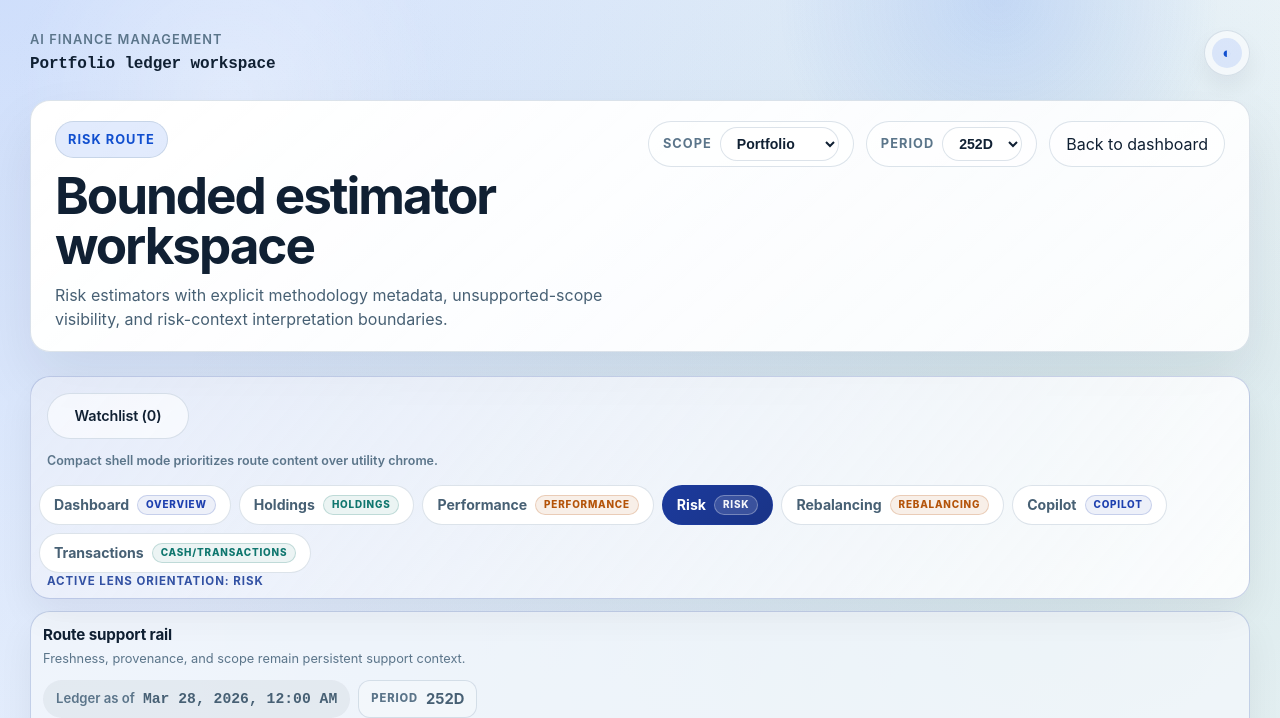
it: PortfolioRiskPage › does not force a default symbol when switching to instrument scope
Step 1. Select "Instrument" in the dropdown named "select risk scope" → point(779, 144), box [720,127,839,161]
(page scrolled)
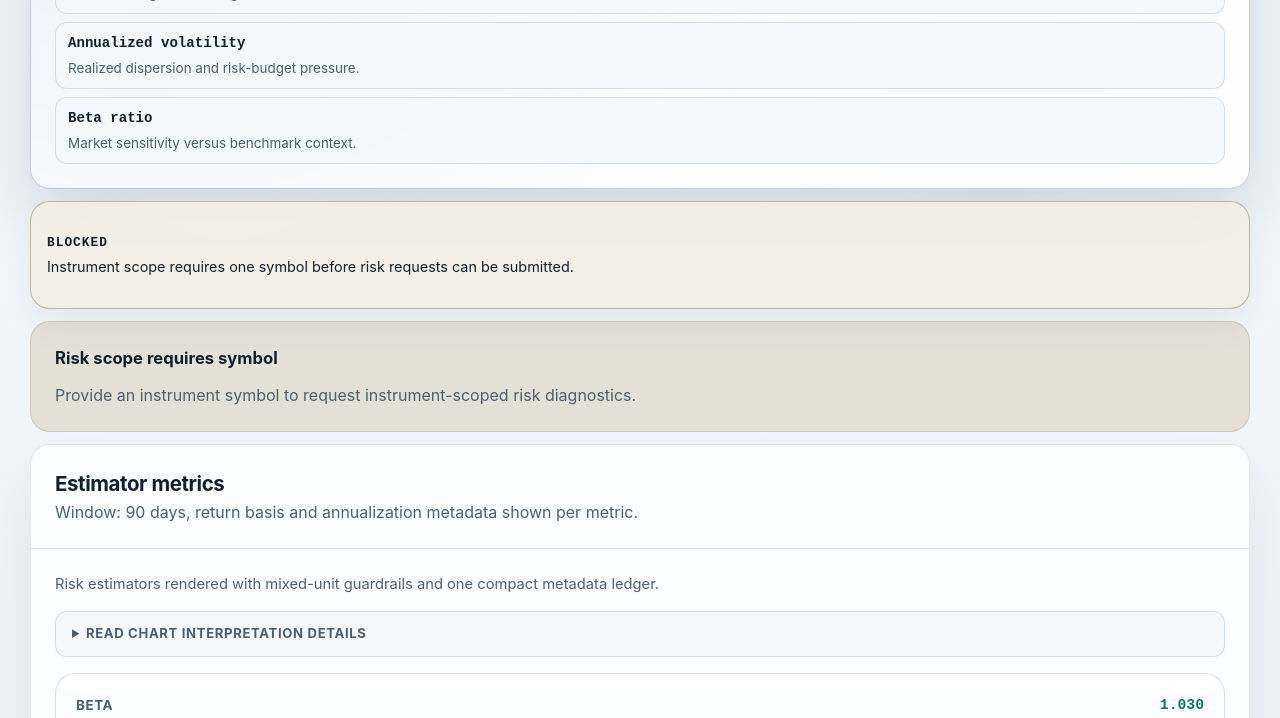
Now the heading "Risk scope requires symbol" is shown, box [55,348,278,368]
